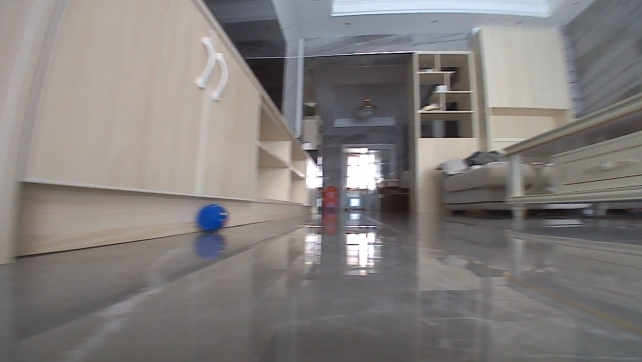TV_stand: (0, 0, 322, 266)
sofa1: (436, 155, 539, 220)
tea_table1: (500, 86, 641, 225)
